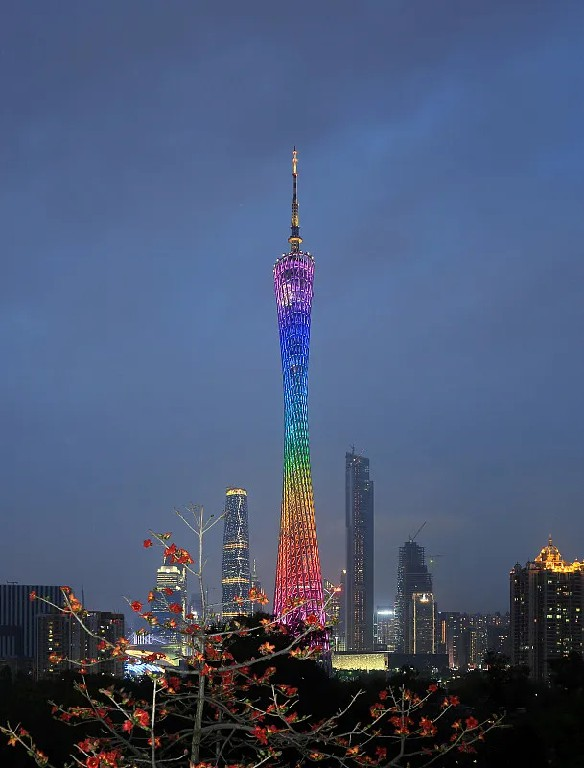Canton: (269, 145, 333, 630)
